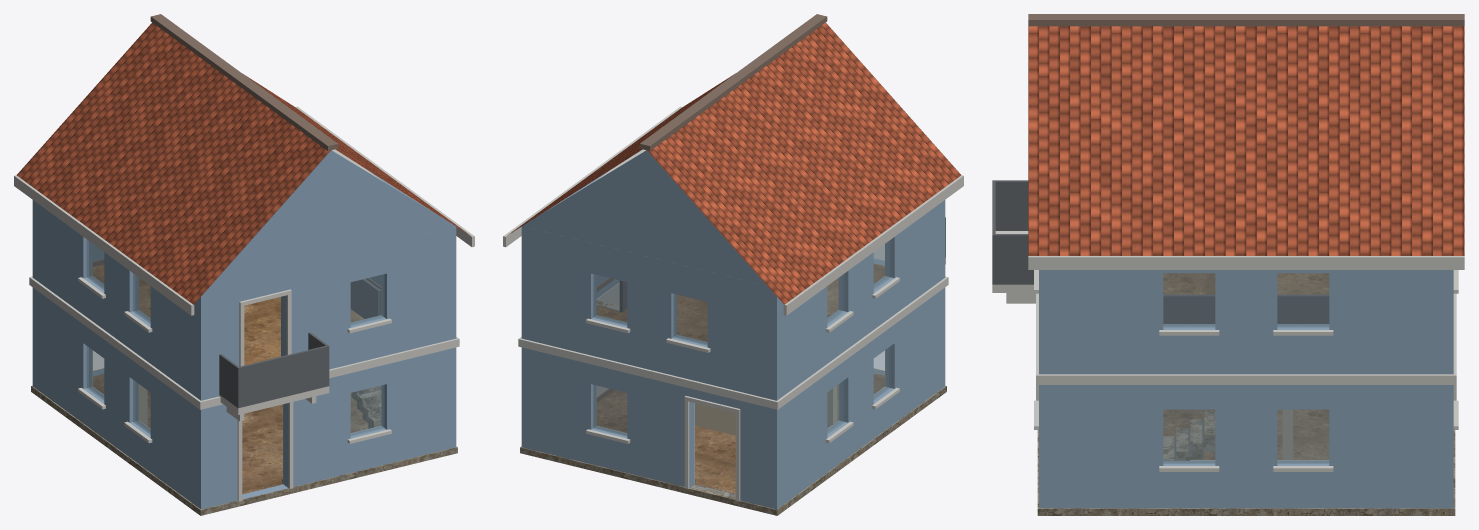
Rendered from cove-house-blue.coast-v2.lod0.glb.
3 views of the same model, side by side, from view 1: azimuth 30°, elevation 25°; view 2: azimuth 150°, elevation 25°; view 3: azimuth 270°, elevation 25° (orthographic). The views are drawn at different scales.
Parts seen in each view (by area): view 1: cove-house-blue; view 2: cove-house-blue; view 3: cove-house-blue.
Part boxes in pixels (left/top/right/bottom): cove-house-blue: left=14, top=14, right=474, bottom=515; cove-house-blue: left=503, top=14, right=963, bottom=515; cove-house-blue: left=992, top=14, right=1464, bottom=515.
Bounding box in the file's own units: 7.78 × 8.98 × 9.11.
5 materials, 3 textured.
